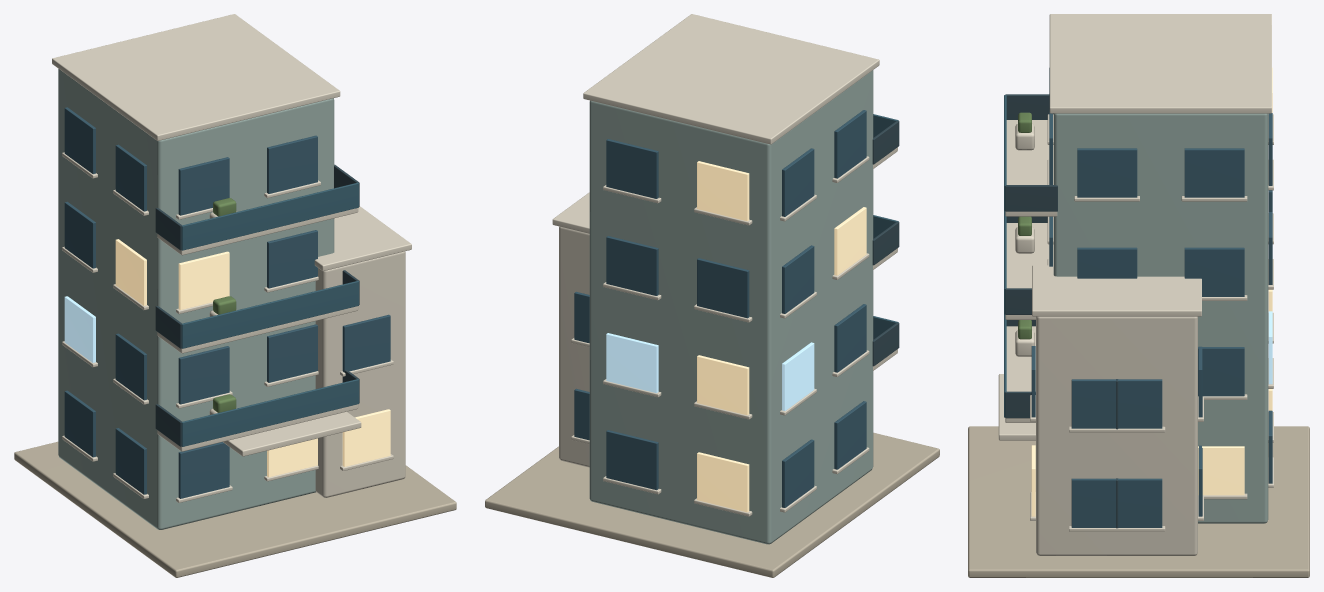
File: mint-apartment.glb
3 renders of one model, left to right at view 1: azimuth 30°, elevation 25°; view 2: azimuth 150°, elevation 25°; view 3: azimuth 270°, elevation 25°, orthographic. The views are drawn at different scales.
Parts seen in each view (by area): view 1: mint_apartment_Building_Volume, mint_apartment_Roof_Coping, mint_apartment_Site_Paving, mint_apartment_Building_Volume.001, mint_apartment_Balcony_Glass, mint_apartment_Balcony_Glass.001, mint_apartment_Balcony_Glass.002, mint_apartment_Roof_Coping.001, mint_apartment_Entrance_Canopy, mint_apartment_Window_Recess.009, mint_apartment_Window_Recess.017, mint_apartment_Window_Recess.001 (+21 smaller); view 2: mint_apartment_Building_Volume, mint_apartment_Roof_Coping, mint_apartment_Site_Paving, mint_apartment_Building_Volume.001, mint_apartment_Window_Recess, mint_apartment_Window_Recess.008, mint_apartment_Window_Recess.002, mint_apartment_Window_Recess.010, mint_apartment_Window_Recess.018, mint_apartment_Window_Recess.016, mint_apartment_Window_Recess.024, mint_apartment_Window_Recess.026 (+14 smaller); view 3: mint_apartment_Building_Volume, mint_apartment_Building_Volume.001, mint_apartment_Site_Paving, mint_apartment_Roof_Coping, mint_apartment_Roof_Coping.001, mint_apartment_Window_Recess.039, mint_apartment_Window_Recess.035, mint_apartment_Window_Recess.029, mint_apartment_Window_Recess.031, mint_apartment_Window_Recess.021, mint_apartment_Balcony_Slab.002, mint_apartment_Window_Recess.005 (+10 smaller).
Boxes of the visible parts, x1=… form: mint_apartment_Building_Volume: x1=58, y1=69, x2=334, y2=529; mint_apartment_Roof_Coping: x1=52, y1=14, x2=340, y2=140; mint_apartment_Site_Paving: x1=14, y1=441, x2=456, y2=577; mint_apartment_Building_Volume.001: x1=315, y1=251, x2=405, y2=497; mint_apartment_Balcony_Glass: x1=181, y1=379, x2=358, y2=446; mint_apartment_Balcony_Glass.001: x1=181, y1=281, x2=358, y2=348; mint_apartment_Balcony_Glass.002: x1=181, y1=182, x2=358, y2=250; mint_apartment_Roof_Coping.001: x1=314, y1=206, x2=411, y2=271; mint_apartment_Entrance_Canopy: x1=223, y1=411, x2=361, y2=456; mint_apartment_Window_Recess.009: x1=178, y1=346, x2=229, y2=404; mint_apartment_Window_Recess.017: x1=178, y1=251, x2=229, y2=309; mint_apartment_Window_Recess.001: x1=178, y1=442, x2=229, y2=498; mint_apartment_Building_Volume: x1=589, y1=70, x2=873, y2=544; mint_apartment_Roof_Coping: x1=583, y1=14, x2=879, y2=144; mint_apartment_Site_Paving: x1=485, y1=432, x2=939, y2=577; mint_apartment_Building_Volume.001: x1=559, y1=226, x2=589, y2=467; mint_apartment_Window_Recess: x1=697, y1=452, x2=749, y2=512; mint_apartment_Window_Recess.008: x1=697, y1=355, x2=749, y2=415; mint_apartment_Window_Recess.002: x1=606, y1=430, x2=658, y2=490; mint_apartment_Window_Recess.010: x1=606, y1=333, x2=658, y2=393; mint_apartment_Window_Recess.018: x1=606, y1=236, x2=658, y2=295; mint_apartment_Window_Recess.016: x1=697, y1=258, x2=749, y2=318; mint_apartment_Window_Recess.024: x1=697, y1=161, x2=749, y2=221; mint_apartment_Window_Recess.026: x1=606, y1=139, x2=658, y2=198; mint_apartment_Building_Volume: x1=1053, y1=113, x2=1268, y2=523; mint_apartment_Building_Volume.001: x1=1036, y1=316, x2=1197, y2=555; mint_apartment_Site_Paving: x1=968, y1=426, x2=1309, y2=577; mint_apartment_Roof_Coping: x1=1049, y1=14, x2=1271, y2=113; mint_apartment_Roof_Coping.001: x1=1032, y1=265, x2=1201, y2=316; mint_apartment_Window_Recess.039: x1=1071, y1=379, x2=1162, y2=428; mint_apartment_Window_Recess.035: x1=1071, y1=478, x2=1162, y2=527; mint_apartment_Window_Recess.029: x1=1184, y1=148, x2=1244, y2=197; mint_apartment_Window_Recess.031: x1=1077, y1=148, x2=1137, y2=197; mint_apartment_Window_Recess.021: x1=1184, y1=247, x2=1244, y2=296; mint_apartment_Balcony_Slab.002: x1=1005, y1=120, x2=1057, y2=216; mint_apartment_Window_Recess.005: x1=1198, y1=446, x2=1244, y2=495.
Size of the model in its own units: 7.8 by 10.86 by 7.8.
